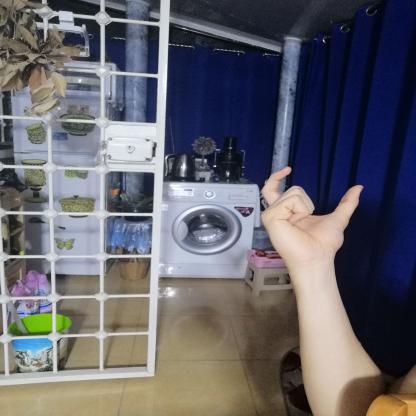NOON: (244, 158, 370, 267)
